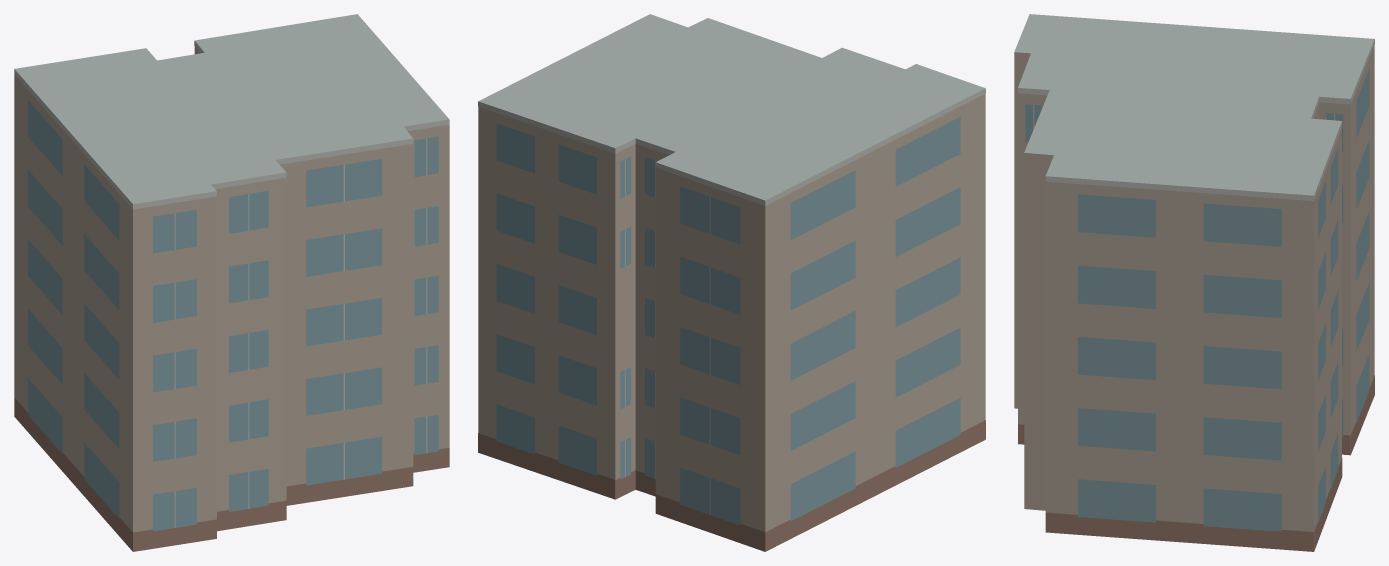
Rendered from survey-upis-33000869.glb.
The picture shows the model from 3 angles, left to right: view 1: azimuth 30°, elevation 25°; view 2: azimuth 150°, elevation 25°; view 3: azimuth 270°, elevation 25°; orthographic projection. The views are drawn at different scales.
Visible parts, largest first — view 1: survey-upis-33000869.tmp; view 2: survey-upis-33000869.tmp; view 3: survey-upis-33000869.tmp.
Boxes of the visible parts, x1,y1,x2,y2 form: survey-upis-33000869.tmp: (14,14,449,551); survey-upis-33000869.tmp: (478,14,985,551); survey-upis-33000869.tmp: (1014,14,1374,551).
Size of the model in its own units: 17.47 by 15.96 by 14.65.
